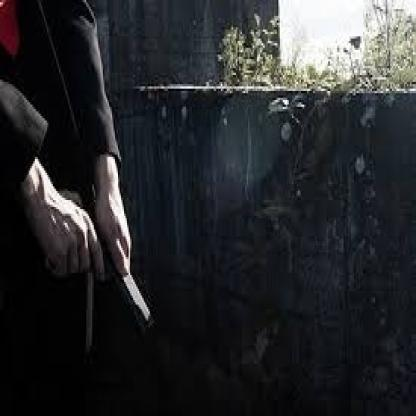Pistol: (76, 205, 150, 339)
